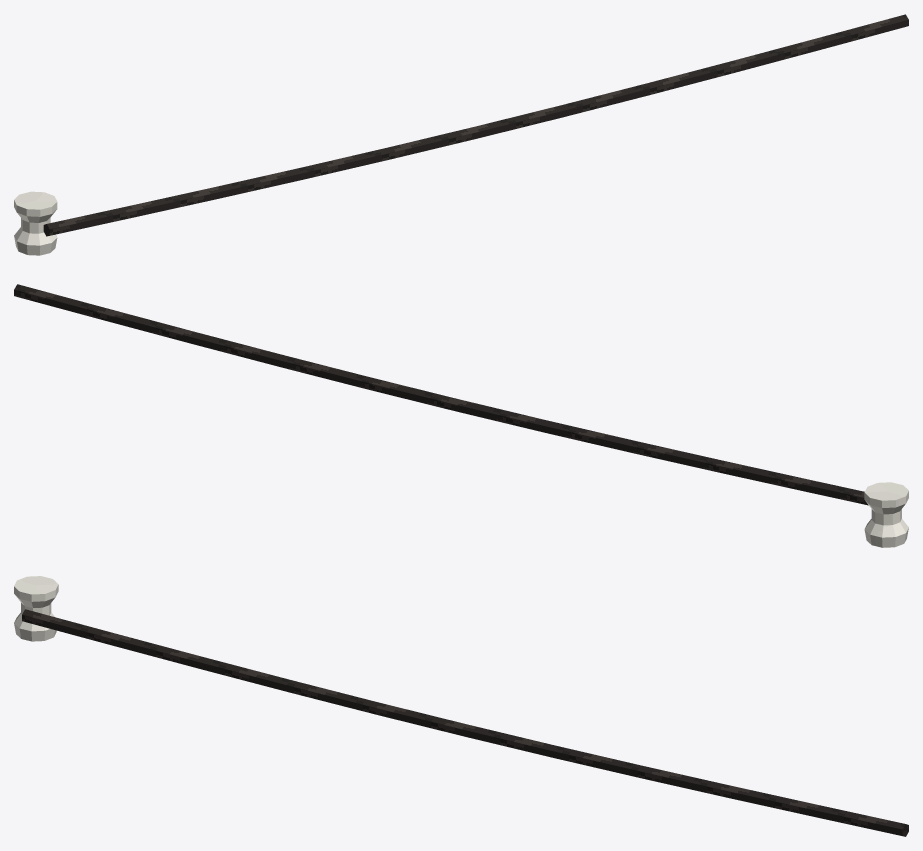
Rendered from gk_knob.glb.
The picture shows the model from 3 angles, top to bottom: view 1: azimuth 30°, elevation 25°; view 2: azimuth 150°, elevation 25°; view 3: azimuth 330°, elevation 25°; orthographic projection. The views are drawn at different scales.
Parts seen in each view (by area): view 1: p; view 2: p; view 3: p.
Part boxes in pixels (x1,y1,x2,y2): p: (14, 14, 908, 255); p: (14, 284, 908, 547); p: (14, 576, 908, 836).
Bounding box in the file's own units: 0.5111 × 0.028 × 0.0245.
3 materials, 3 textured.
